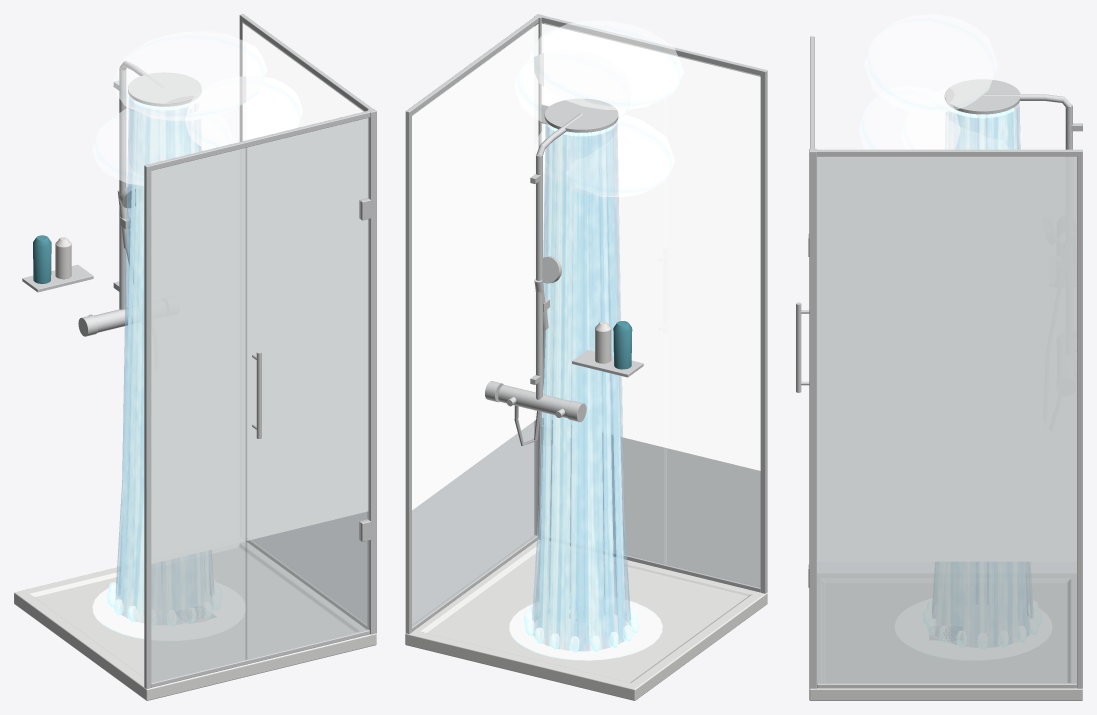
The model's file is shower_booth.glb.
3 renders of one model, left to right at view 1: azimuth 30°, elevation 25°; view 2: azimuth 150°, elevation 25°; view 3: azimuth 270°, elevation 25°, orthographic. The views are drawn at different scales.
Visible parts, largest first — view 1: shower_booth_glass, shower_booth_steam, shower_booth_tray, shower_booth_water, shower_booth_profiles, shower_booth_spray, shower_booth_shower_column, shower_booth_shelf, shower_booth_door_handle; view 2: shower_booth_steam, shower_booth_spray, shower_booth_water, shower_booth_glass, shower_booth_tray, shower_booth_profiles, shower_booth_shower_column, shower_booth_shelf; view 3: shower_booth_glass, shower_booth_steam, shower_booth_tray, shower_booth_profiles, shower_booth_water, shower_booth_spray, shower_booth_shower_column, shower_booth_door_handle.
Boxes of the visible parts, x1,y1,x2,y2 form: shower_booth_glass: [151, 23, 369, 683]; shower_booth_steam: [92, 23, 367, 563]; shower_booth_tray: [14, 541, 376, 700]; shower_booth_water: [92, 100, 245, 640]; shower_booth_profiles: [144, 14, 376, 688]; shower_booth_spray: [107, 96, 221, 626]; shower_booth_shower_column: [78, 60, 201, 336]; shower_booth_shelf: [22, 235, 93, 292]; shower_booth_door_handle: [252, 351, 261, 438]; shower_booth_steam: [412, 20, 760, 510]; shower_booth_spray: [524, 122, 638, 652]; shower_booth_water: [509, 126, 662, 660]; shower_booth_glass: [412, 22, 760, 626]; shower_booth_tray: [405, 539, 767, 700]; shower_booth_profiles: [405, 14, 767, 633]; shower_booth_shower_column: [485, 98, 618, 446]; shower_booth_shelf: [572, 321, 643, 377]; shower_booth_glass: [817, 156, 1076, 683]; shower_booth_steam: [817, 14, 1076, 561]; shower_booth_tray: [809, 574, 1082, 700]; shower_booth_profiles: [808, 36, 1082, 688]; shower_booth_water: [895, 107, 1052, 660]; shower_booth_spray: [923, 102, 1042, 648]; shower_booth_shower_column: [944, 79, 1082, 149]; shower_booth_door_handle: [796, 302, 809, 392].
Bounding box in the file's own units: 0.9 × 2.2 × 0.944.
Materials: 12 (2 with a texture image).
